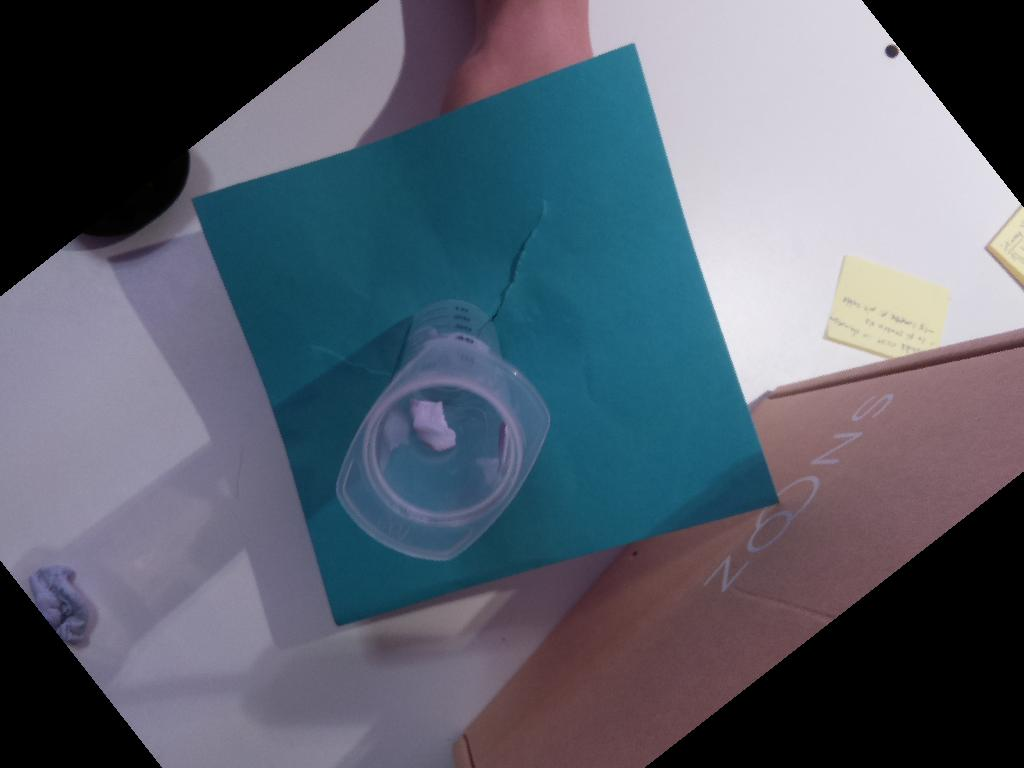dirty: (335, 337, 550, 562)
